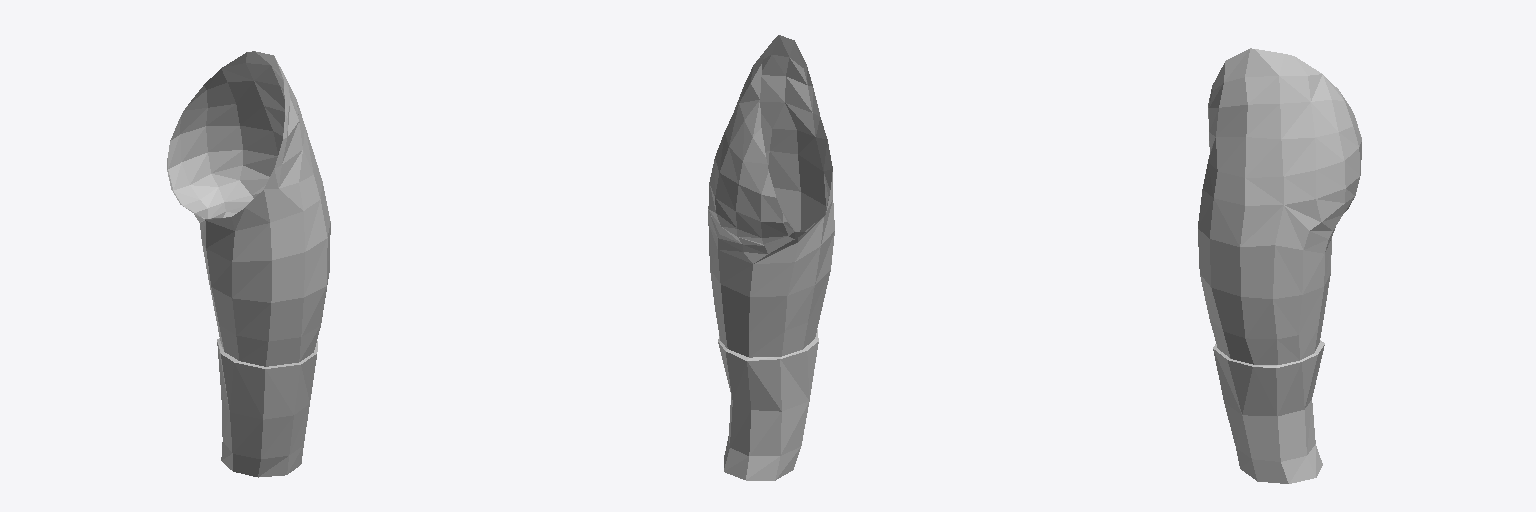
The model's file is Rfoot1.obj.
3 views of the same model, side by side, from view 1: azimuth 30°, elevation 25°; view 2: azimuth 150°, elevation 25°; view 3: azimuth 270°, elevation 25° (orthographic).
Parts seen in each view (by area): view 1: polySurface54 polySurface51 polySurface49 polySurface47 polySurf; view 2: polySurface54 polySurface51 polySurface49 polySurface47 polySurf; view 3: polySurface54 polySurface51 polySurface49 polySurface47 polySurf.
Boxes of the visible parts, x1=… form: polySurface54 polySurface51 polySurface49 polySurface47 polySurf: x1=167, y1=51, x2=330, y2=477; polySurface54 polySurface51 polySurface49 polySurface47 polySurf: x1=708, y1=35, x2=834, y2=480; polySurface54 polySurface51 polySurface49 polySurface47 polySurf: x1=1198, y1=48, x2=1361, y2=483.
Size of the model in its own units: 3.8 by 13.41 by 4.78.